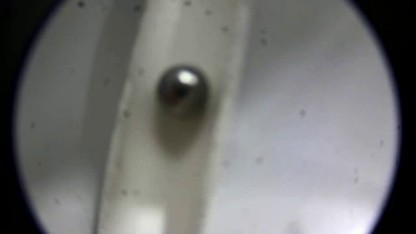gangzhu: (152, 57, 211, 118)
